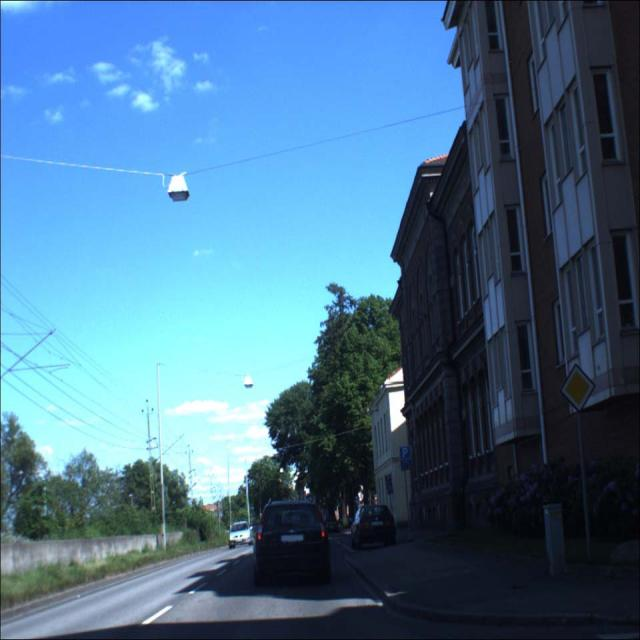park: (400, 446, 410, 460)
